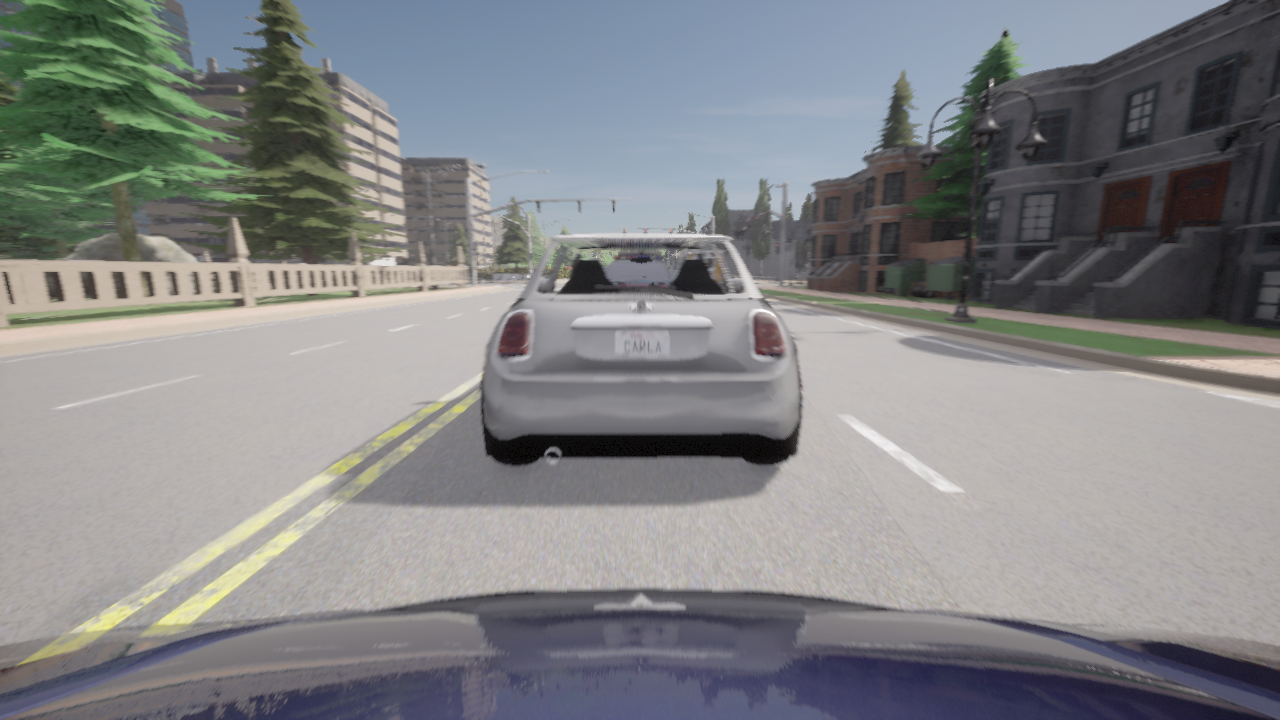cyclist: (0, 588, 1279, 719), (480, 234, 802, 466)
pedestrian: (450, 264, 453, 285), (447, 264, 449, 285), (438, 264, 440, 266)
